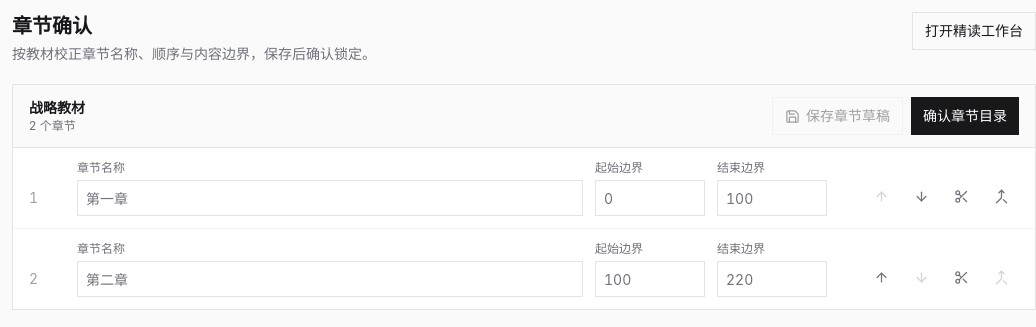
Test case: confirms the saved fingerprint and locks all editing controls
Click the button "确认章节目录" at (965, 116), box [911,97,1019,135]
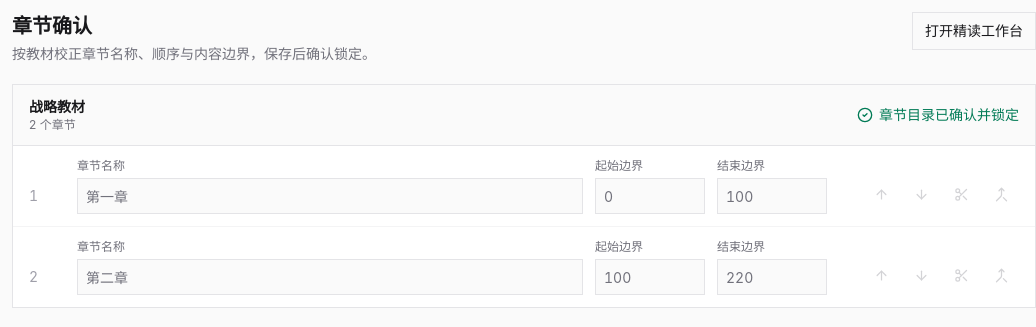
Check: the 1st field labelled "章节名称" is disabled, box [77,178,583,214]
Check: the text "章节目录已确认并锁定" is shown, box [857,105,1019,125]
